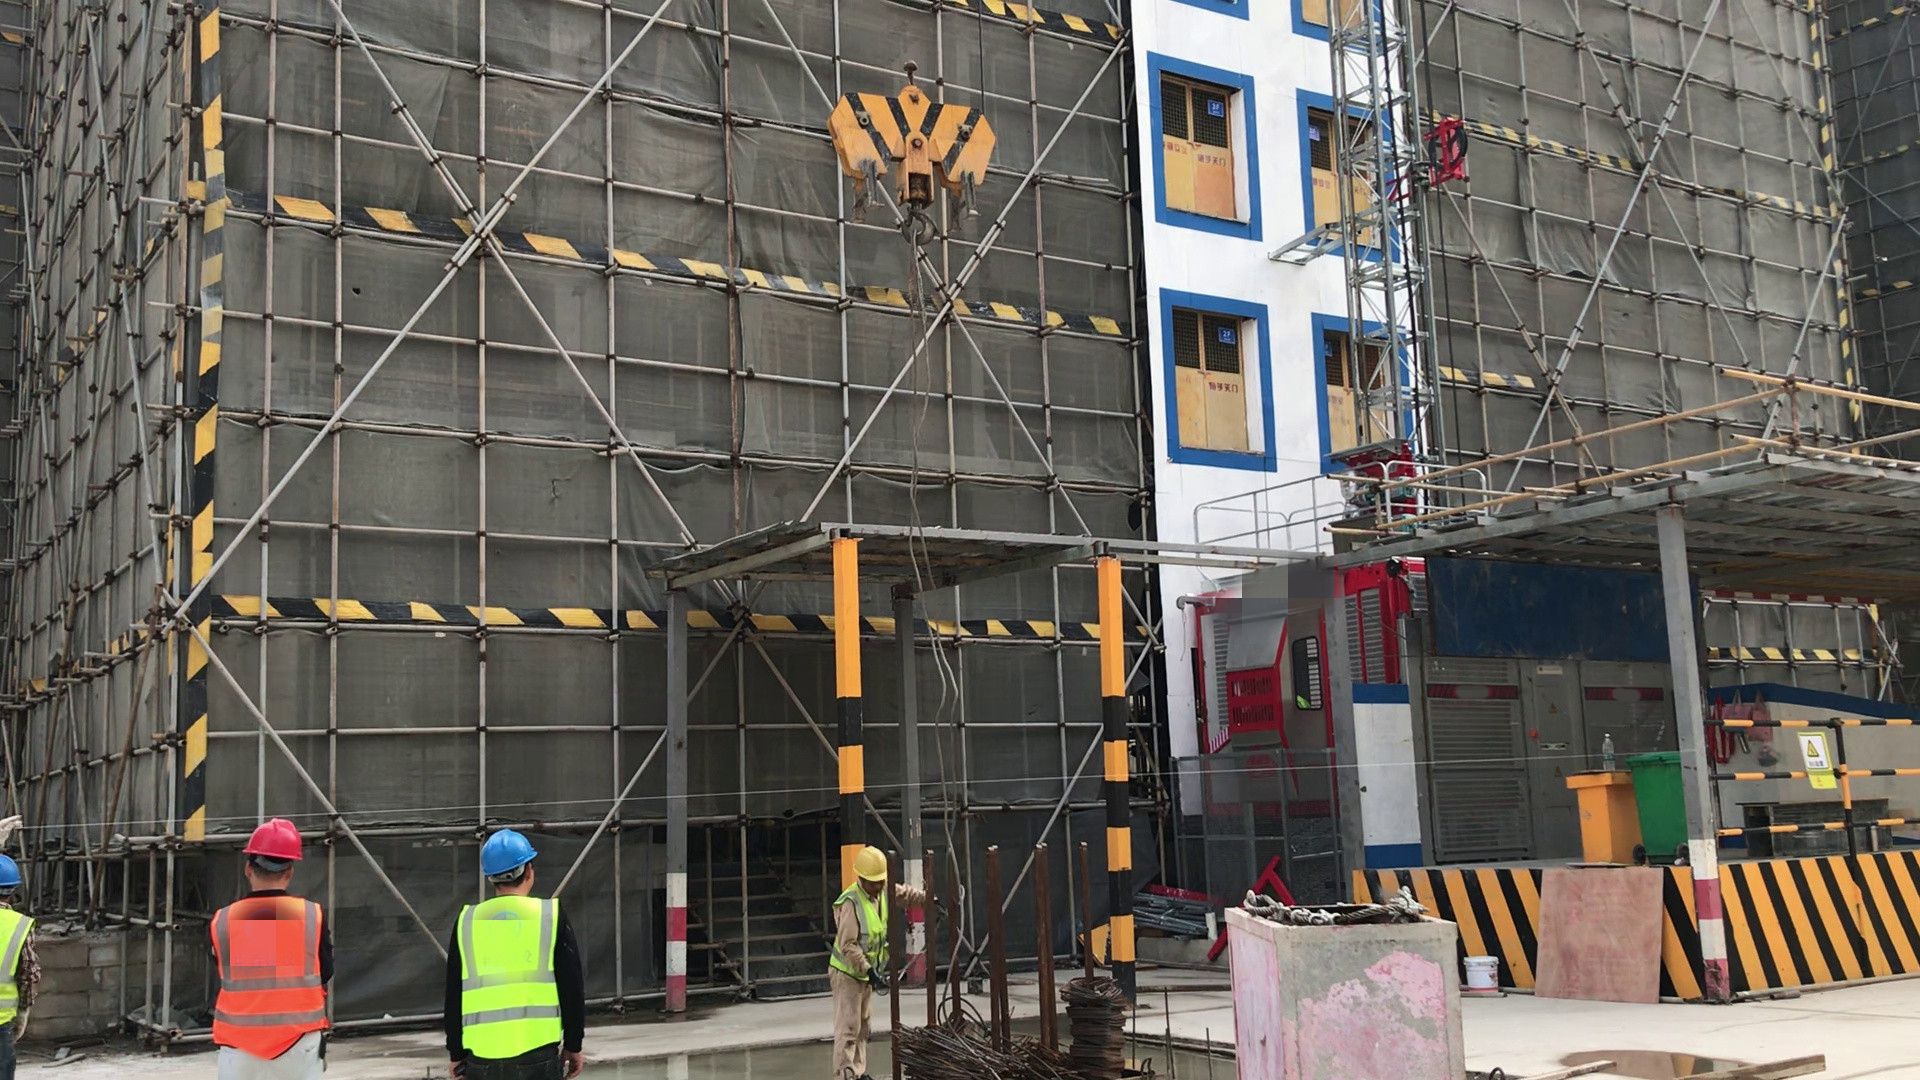helmet: (481, 831, 535, 879), (242, 820, 304, 860), (851, 844, 888, 883), (1, 852, 22, 889)
person: (447, 830, 585, 1080), (206, 822, 335, 1080), (829, 846, 889, 1080), (1, 849, 35, 1080)
vest: (221, 901, 323, 1056), (461, 906, 563, 1057), (836, 893, 886, 983), (1, 910, 29, 1022)
